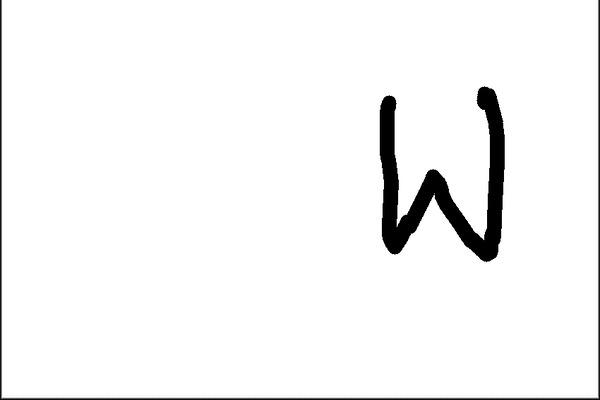w: (361, 79, 523, 269)
